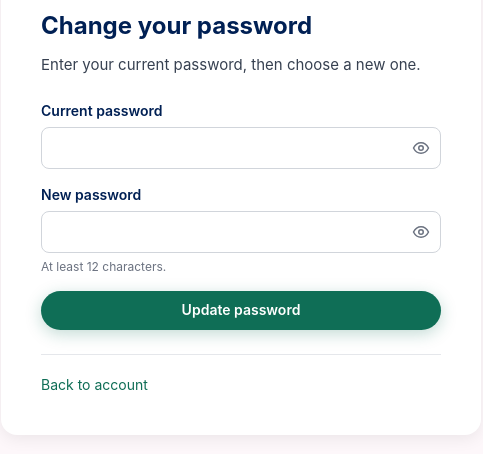
ResetPasswordForm — validation › blocks when the new password is shorter than 12 characters
Type "OldStrong!Pass99" into the password field labelled "Current password" at (241,148), box [41,127,441,169]
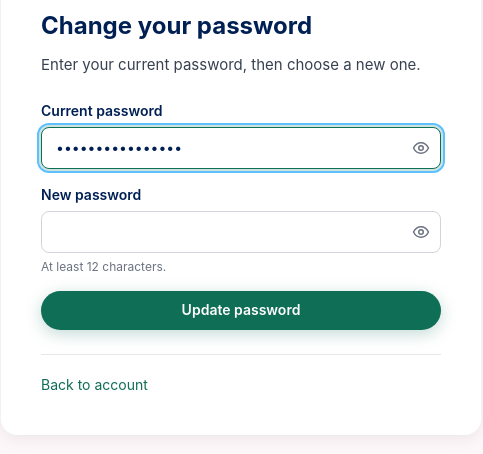
Type "tooshort1" into the password field labelled "New password" at (241,232), box [41,211,441,253]
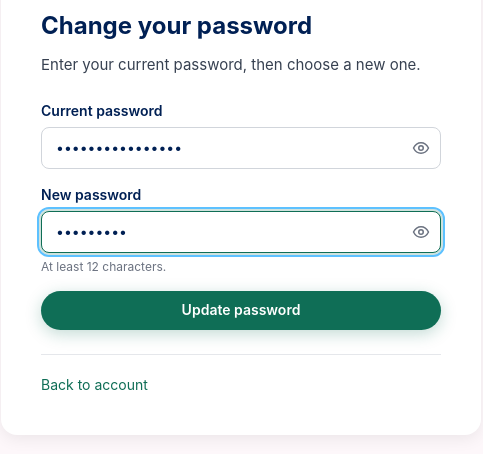
Click the button "Update password" at (241,311), box [41,291,441,330]
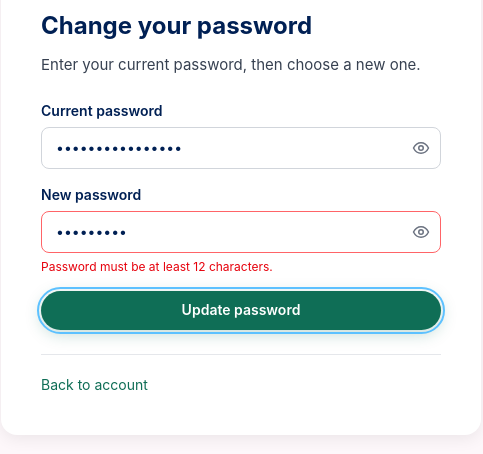
Expected: the text "Password must be at least 12 characters." is shown, [41,259,273,274]
